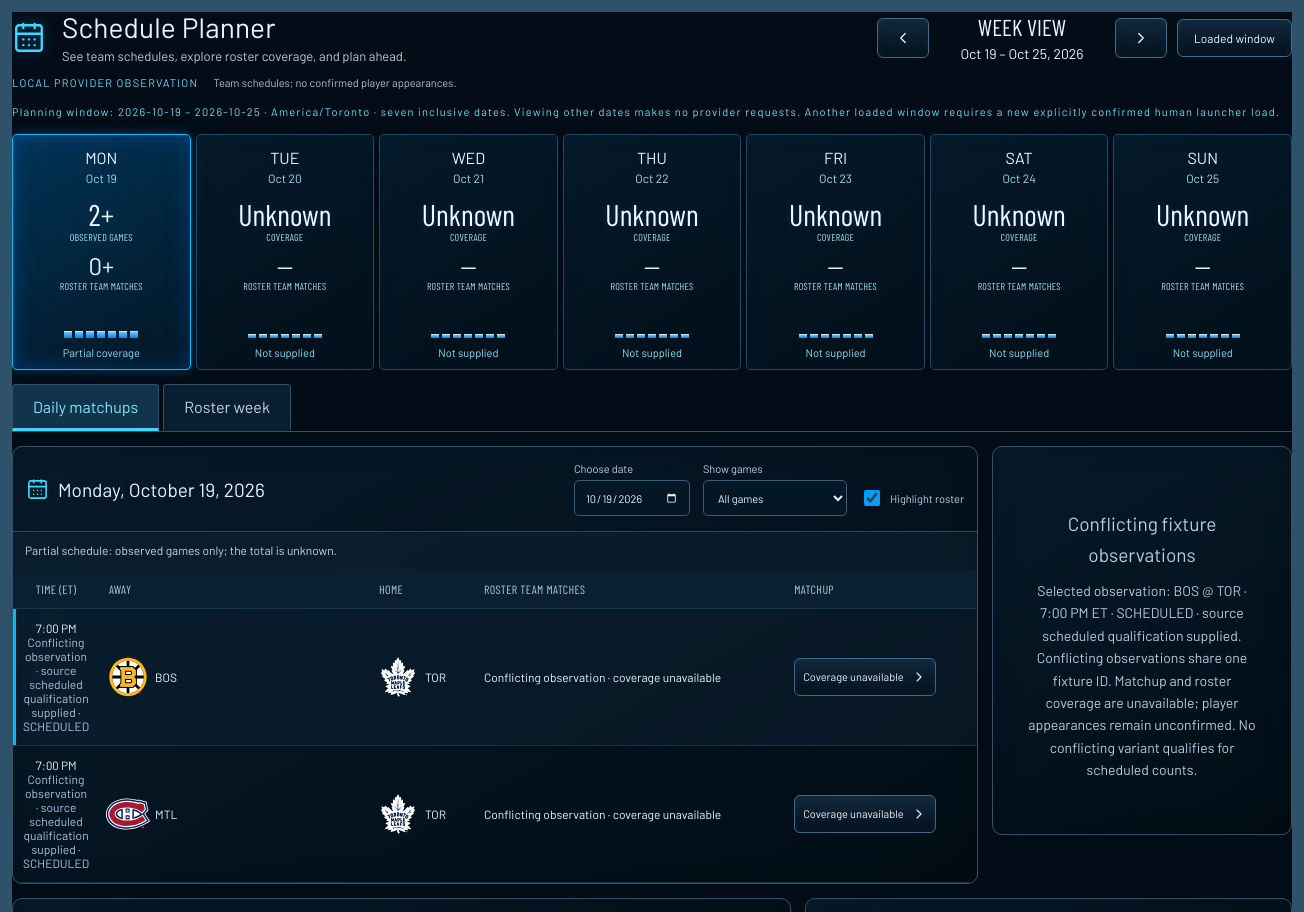
Test: selects one conflicting opponent variant without presenting arbitrary matchup details
The image size is (1304, 912).
Click the button with aria-label "Select": (865, 814) [794, 795, 936, 833]
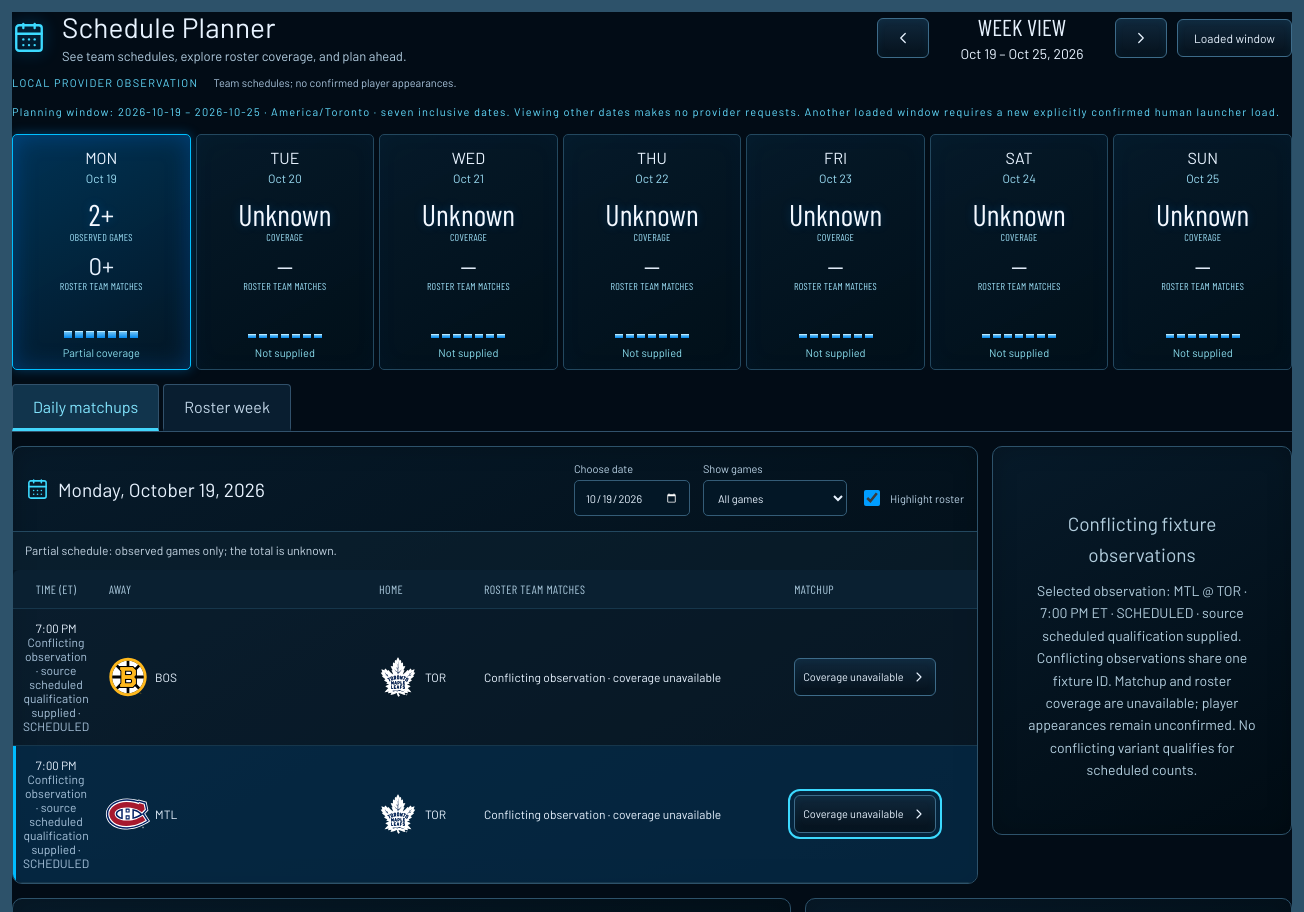
Check: the heading "Conflicting fixture observations" is shown, box [1068, 512, 1216, 566]
Check: the text "MTL @ TOR" is shown, box [1026, 580, 1258, 647]
